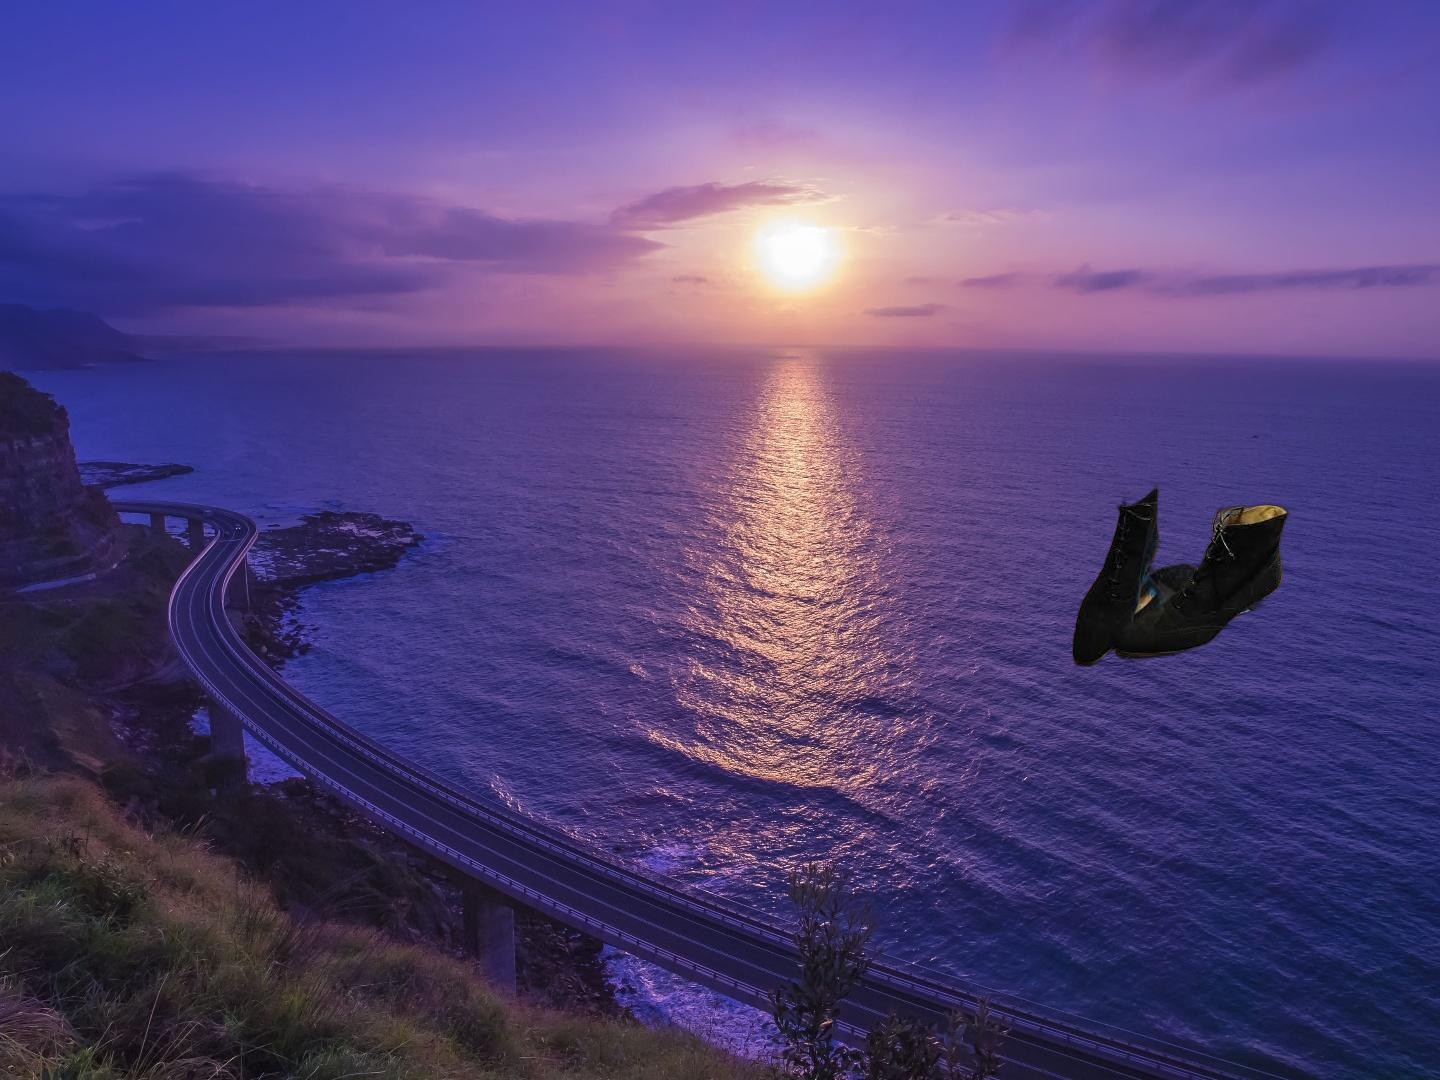shoes: (1066, 466, 1291, 669)
